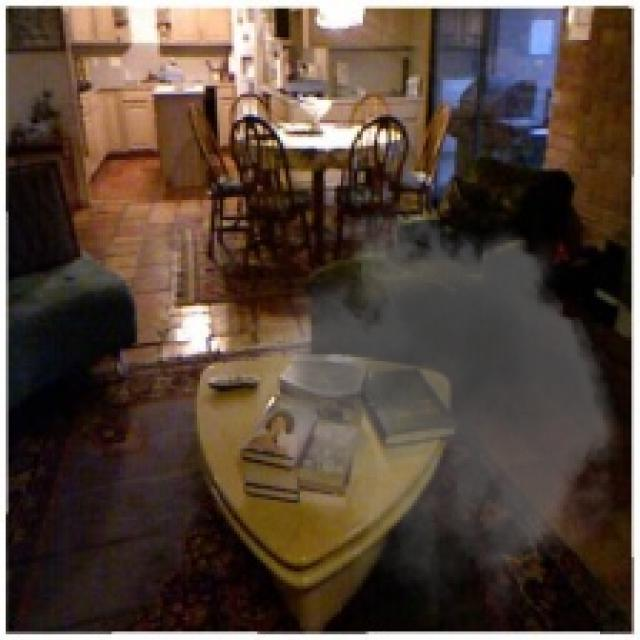Smoke: (255, 192, 634, 617)
